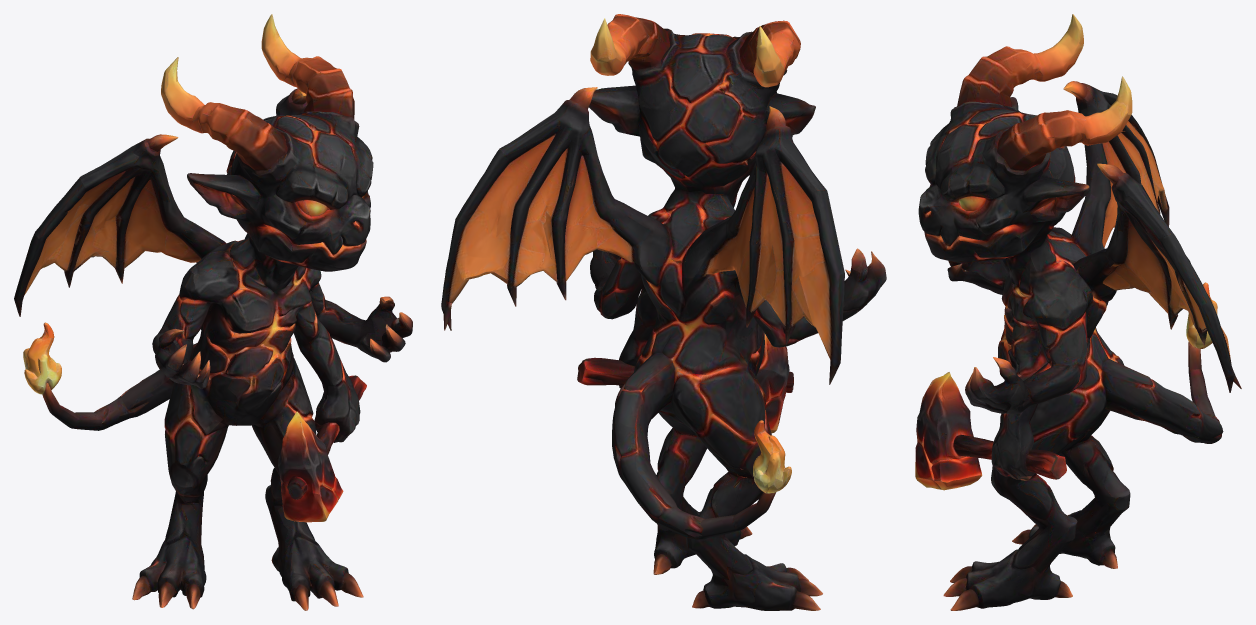
File: cinder_imp.glb
The picture shows the model from 3 angles, left to right: view 1: azimuth 30°, elevation 25°; view 2: azimuth 150°, elevation 25°; view 3: azimuth 270°, elevation 25°; orthographic projection. The views are drawn at different scales.
Visible parts, largest first — view 1: Mesh_0; view 2: Mesh_0; view 3: Mesh_0.
Boxes of the visible parts, x1,y1,x2,y2 form: Mesh_0: (14,14,412,610); Mesh_0: (441,14,886,610); Mesh_0: (915,14,1241,610).
Bounding box in the file's own units: 1.26 × 1.9 × 1.05.
Materials: 1 (1 with a texture image).
